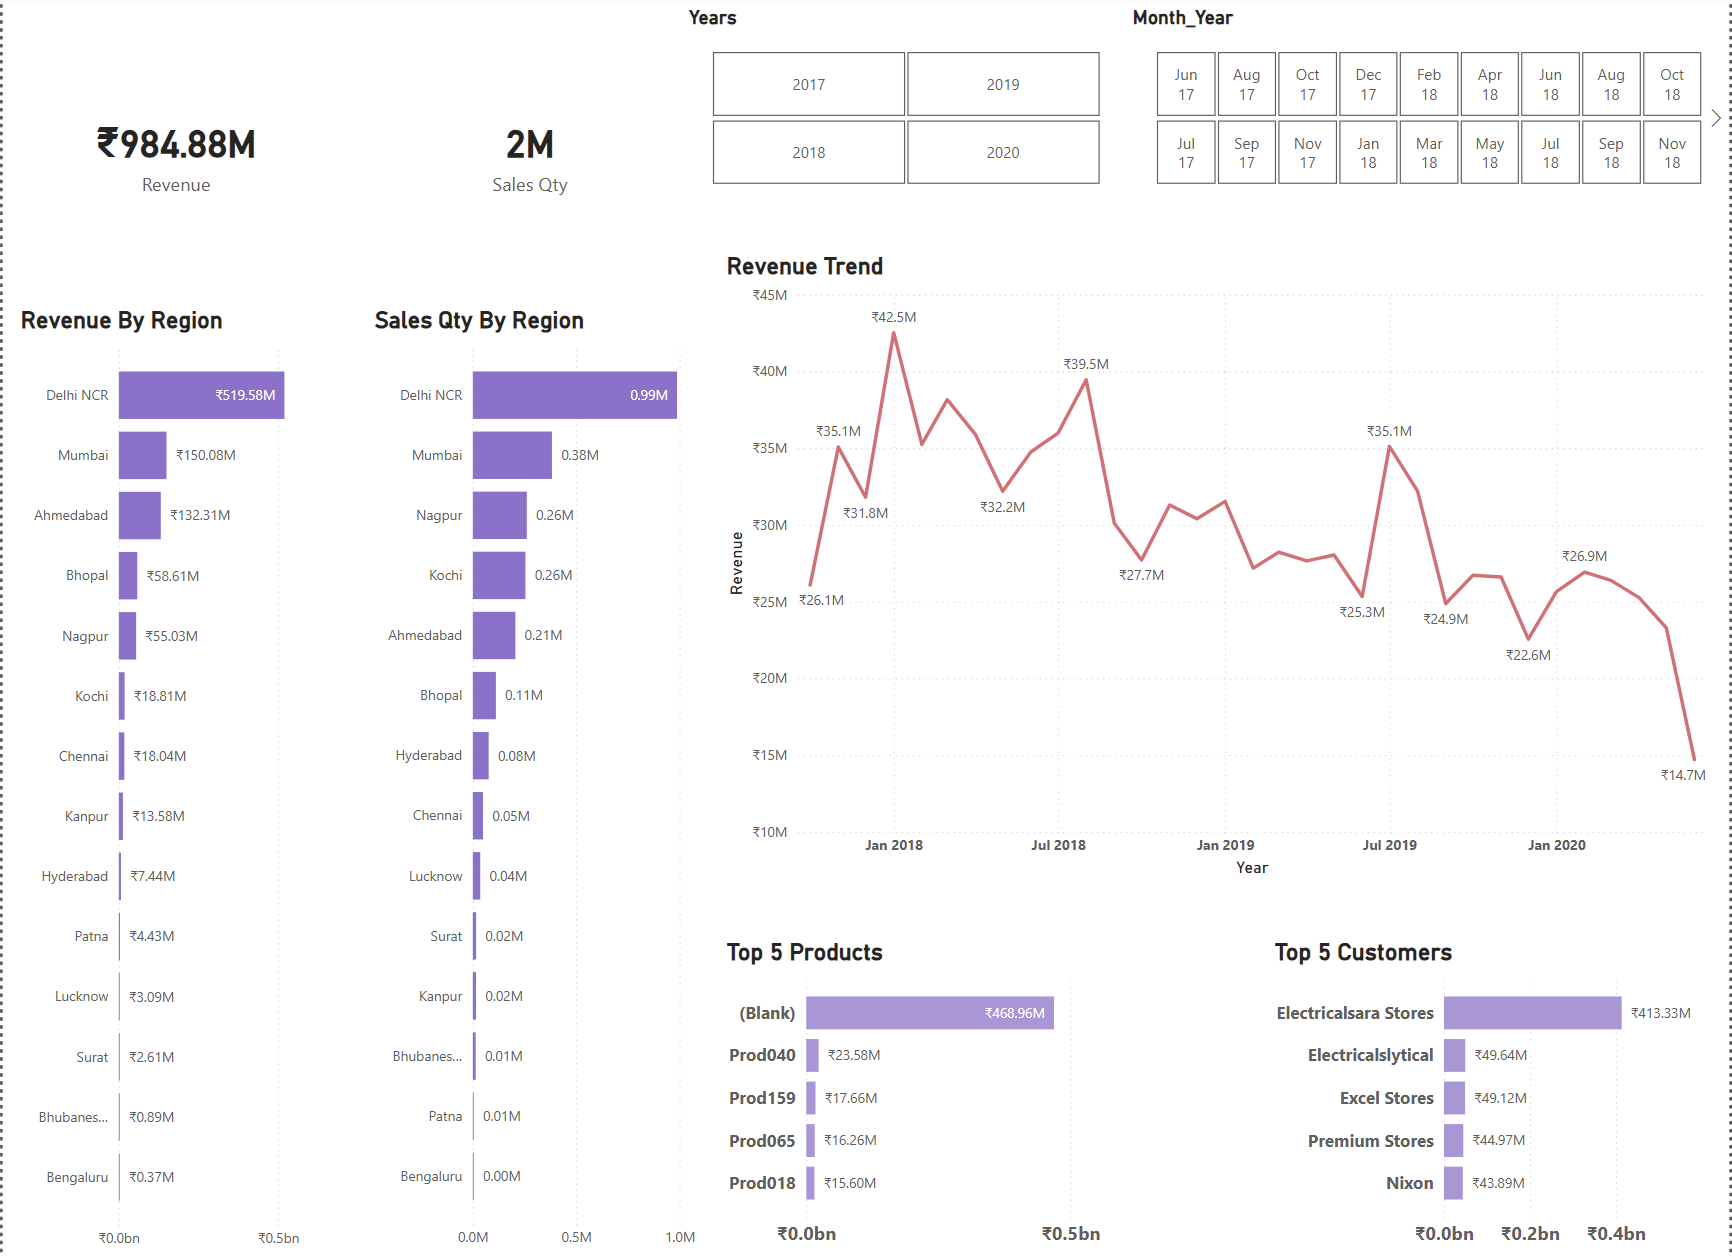

Layout of this report page (visuals, bound fields, positions):
{"tool":"powerbi","page":{"name":"Key Insights","canvas":[1500,1100],"ordinal":0},"visuals":[{"type":"card","fields":{"Values":["BaseMeasures.Revenue"]},"box":[10,0,280,280],"z":0},{"type":"card","fields":{"Values":["BaseMeasures.Sales Qty"]},"box":[318,0,279.8,279.8],"z":1000},{"type":"barChart","title":"Revenue By Region","fields":{"Y":["BaseMeasures.Revenue"],"Category":["sales markets.markets_name"]},"box":[10.4,272,308.3,828],"z":2000},{"type":"barChart","title":"Sales Qty By Region","fields":{"Y":["BaseMeasures.Sales Qty"],"Category":["sales markets.markets_name"]},"box":[318,272.8,309.3,827.2],"z":3000},{"type":"slicer","title":"Years","fields":{"Values":["sales date.year"]},"box":[590.8,12.2,385.8,161.6],"z":4000},{"type":"slicer","title":"Month_Year","fields":{"Values":["sales date.cy_date"]},"box":[976.6,12.2,523.1,161.6],"z":5000},{"type":"barChart","title":"Top 5 Products","fields":{"Y":["BaseMeasures.Revenue"],"Category":["sales products.product_code"]},"box":[623.9,822,380.6,278],"z":6000},{"type":"barChart","title":"Top 5 Customers ","fields":{"Y":["BaseMeasures.Revenue"],"Category":["sales customers.custmer_name"]},"box":[1100,822,399.7,278],"z":7000},{"type":"lineChart","title":"Revenue Trend","fields":{"Y":["BaseMeasures.Revenue"],"Category":["sales date.cy_date.Variation.Date Hierarchy.Year","sales date.cy_date.Variation.Date Hierarchy.Quarter","sales date.cy_date.Variation.Date Hierarchy.Month","sales date.cy_date.Variation.Date Hierarchy.Day"]},"box":[623.9,225.9,875.8,547.4],"z":8000}]}

Visuals, with their boxes in screenshot pixels (x1, y1, x2, y2), scaled from the page's 1500x1100 canvas onto the 1732x1256 screenshot:
card - BaseMeasures.Revenue: (12,0,335,320)
card - BaseMeasures.Sales Qty: (367,0,690,319)
"Revenue By Region" barChart: (12,311,368,1255)
"Sales Qty By Region" barChart: (367,311,724,1255)
"Years" slicer: (682,14,1128,198)
"Month_Year" slicer: (1128,14,1731,198)
"Top 5 Products" barChart: (720,939,1160,1255)
"Top 5 Customers " barChart: (1270,939,1731,1255)
"Revenue Trend" lineChart: (720,258,1731,883)
